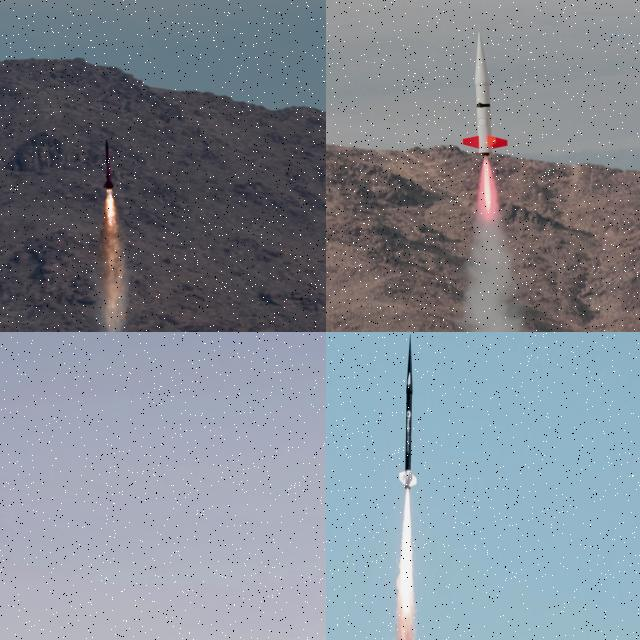Rocket: (462, 32, 509, 158), (397, 332, 417, 492), (102, 137, 115, 190)
